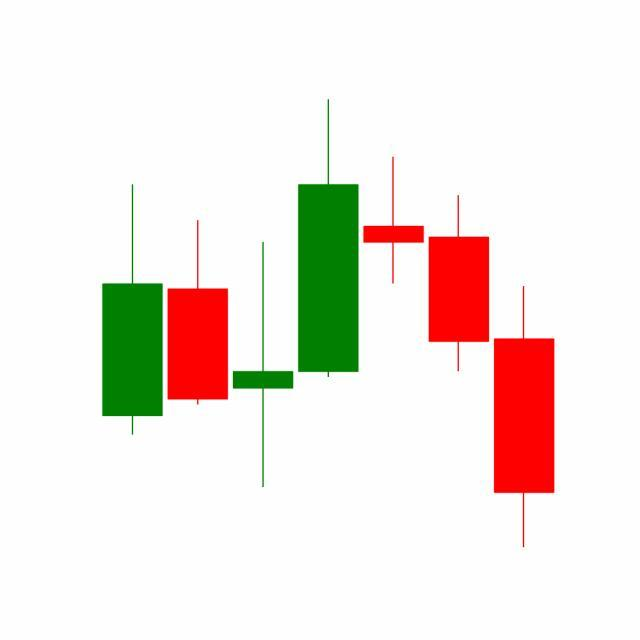Hikkake Pattern: (165, 100, 492, 493)
